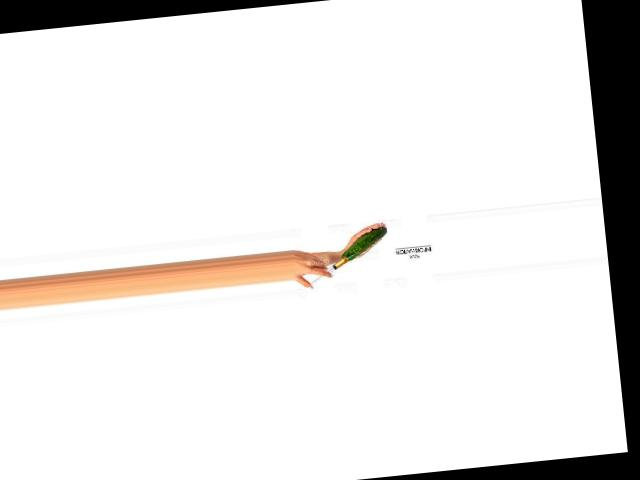cucumber: (339, 226, 388, 262)
